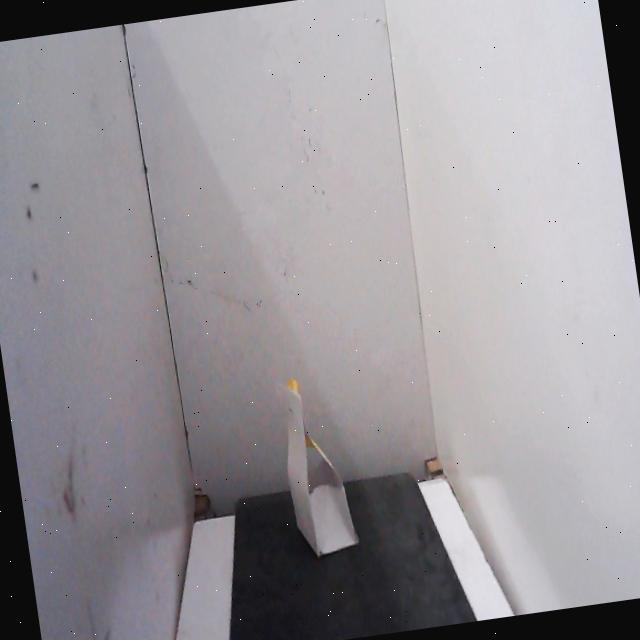papel: (265, 358, 367, 572)
